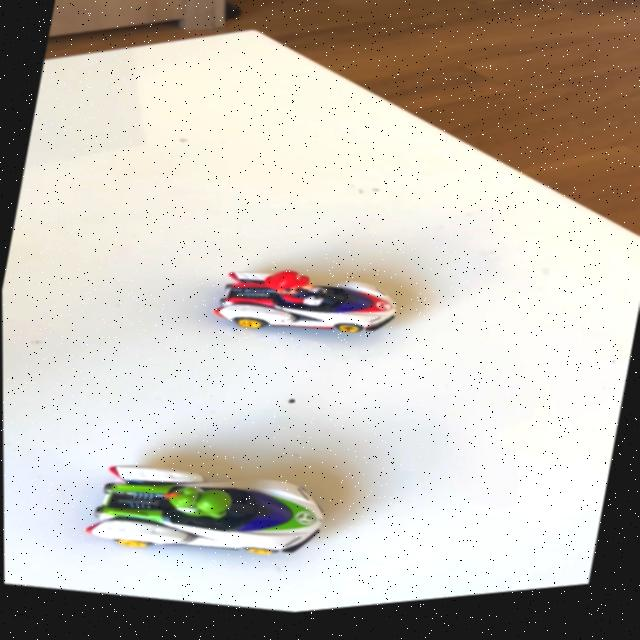mario: (192, 240, 424, 380)
yoshi: (62, 419, 348, 598)
